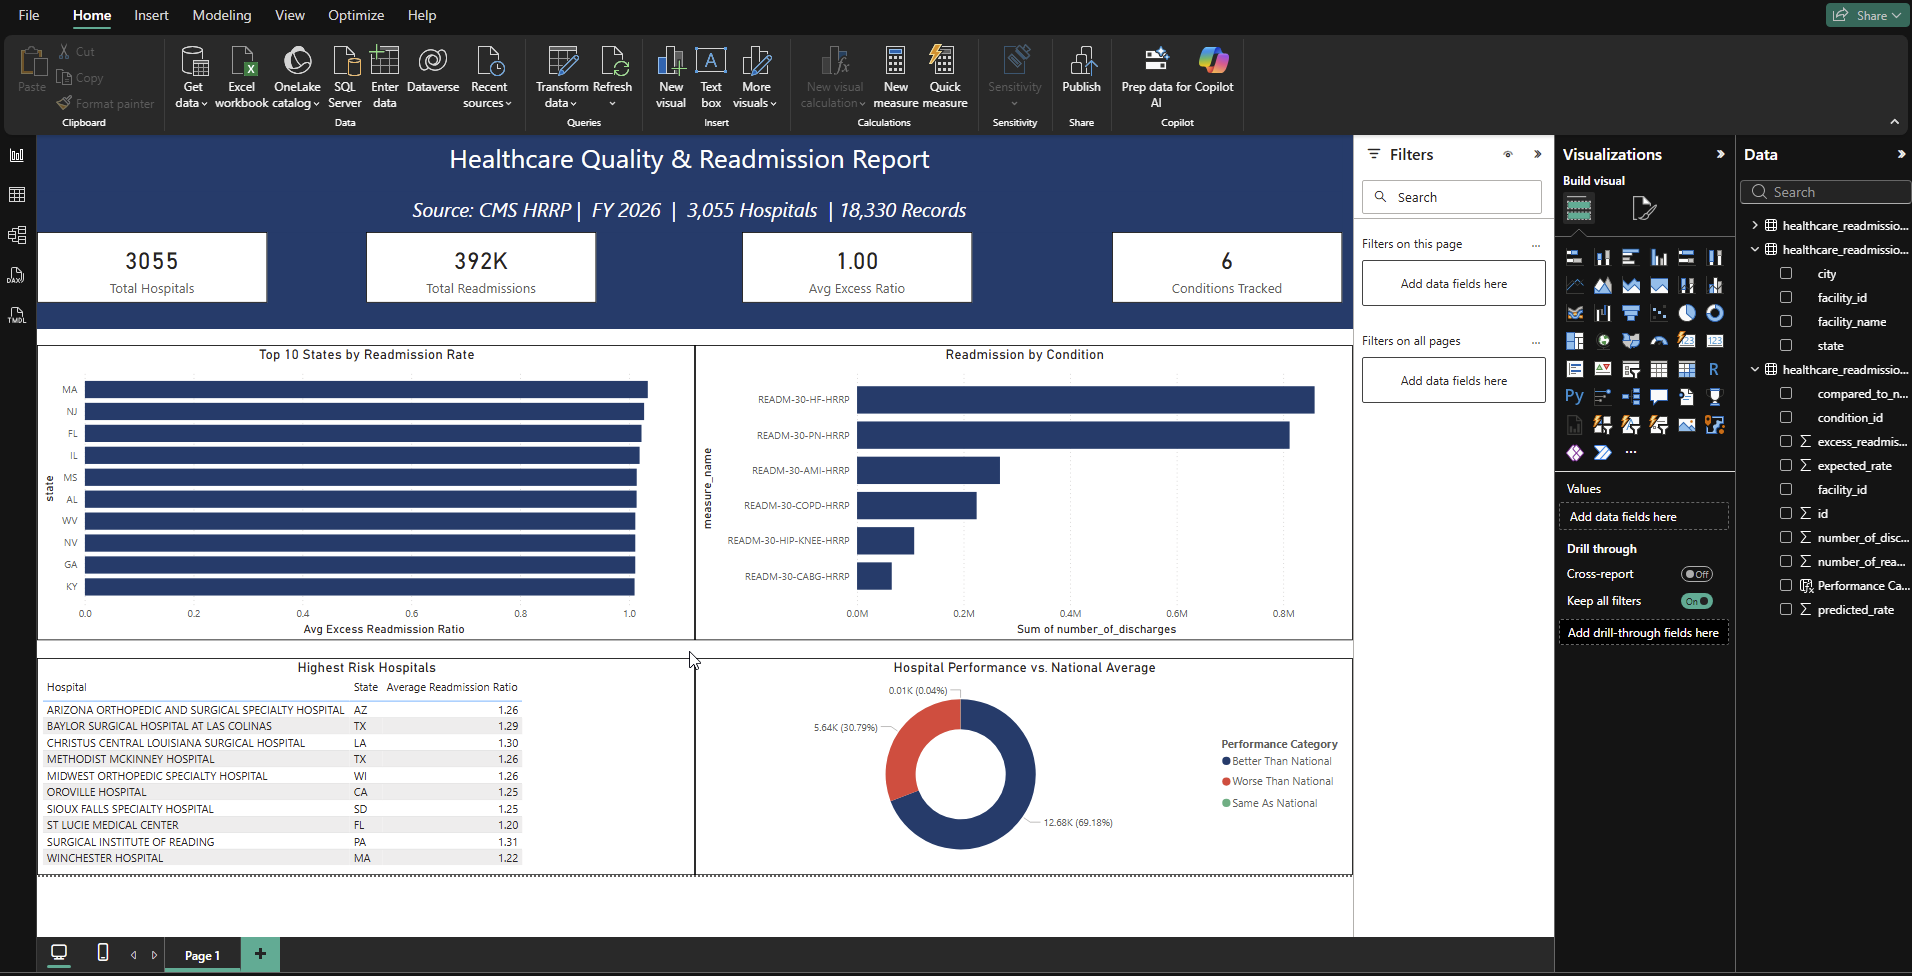

What the dashboard file says about the page in this screenshot:
{"tool":"powerbi","page":{"name":"Page 1","canvas":[1600,900],"ordinal":0},"visuals":[{"type":"clusteredBarChart","fields":{"Category":["healthcare_readmissions hospitals.state"],"Y":["Avg(healthcare_readmissions readmissions.excess_readmission_ratio)"]},"box":[0,236,657,359],"z":0},{"type":"donutChart","fields":{"Category":["healthcare_readmissions readmissions.Performance Category"],"Y":["CountNonNull(healthcare_readmissions readmissions.facility_id)"]},"box":[691,636,601,264],"z":1000},{"type":"clusteredBarChart","fields":{"Category":["healthcare_readmissions conditions.measure_name"],"Y":["Sum(healthcare_readmissions readmissions.number_of_discharges)"]},"box":[679,236,601,359],"z":2000},{"type":"tableEx","fields":{"Values":["healthcare_readmissions hospitals.facility_name","healthcare_readmissions hospitals.state","Avg(healthcare_readmissions readmissions.excess_readmission_ratio)"]},"box":[0,636,657,264],"z":3000},{"type":"shape","box":[0,0,1280,236],"z":3001},{"type":"textbox","box":[0,0,1280,69],"z":3002}]}

Visuals, with their boxes on the page's 1600x900 design canvas (x1, y1, x2, y2). These are canvas units, not pixel positions in the 1912x976 screenshot, which may show the page scaled, cropped or inside an application window:
clusteredBarChart - healthcare_readmissions hospitals.state x Avg(healthcare_readmissions readmissions.excess_readmission_ratio): rect(0, 236, 657, 595)
donutChart - healthcare_readmissions readmissions.Performance Category x CountNonNull(healthcare_readmissions readmissions.facility_id): rect(691, 636, 1292, 900)
clusteredBarChart - healthcare_readmissions conditions.measure_name x Sum(healthcare_readmissions readmissions.number_of_discharges): rect(679, 236, 1280, 595)
tableEx - healthcare_readmissions hospitals.facility_name x healthcare_readmissions hospitals.state: rect(0, 636, 657, 900)
shape: rect(0, 0, 1280, 236)
textbox: rect(0, 0, 1280, 69)
